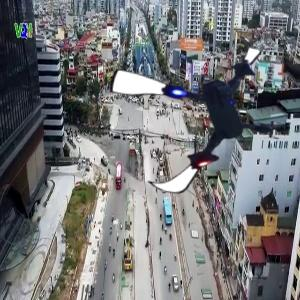drone: (106, 28, 287, 209)
